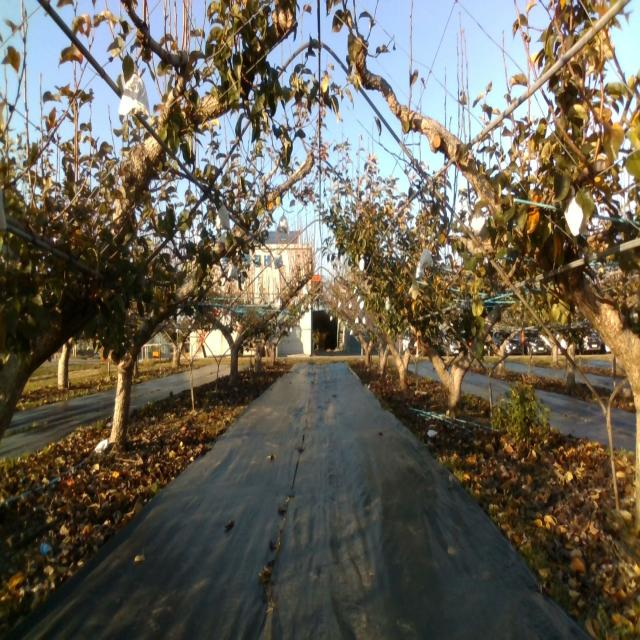pearbags: (118, 71, 149, 118), (564, 196, 586, 236), (214, 206, 231, 232), (471, 209, 486, 238), (276, 211, 290, 235), (419, 248, 433, 270)
